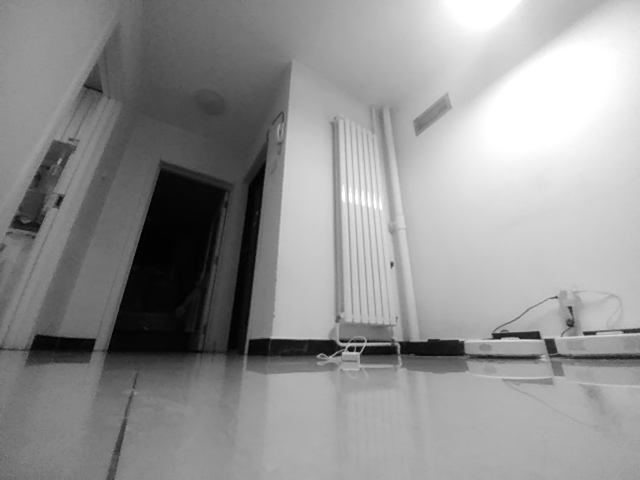wire: (316, 335, 367, 365)
